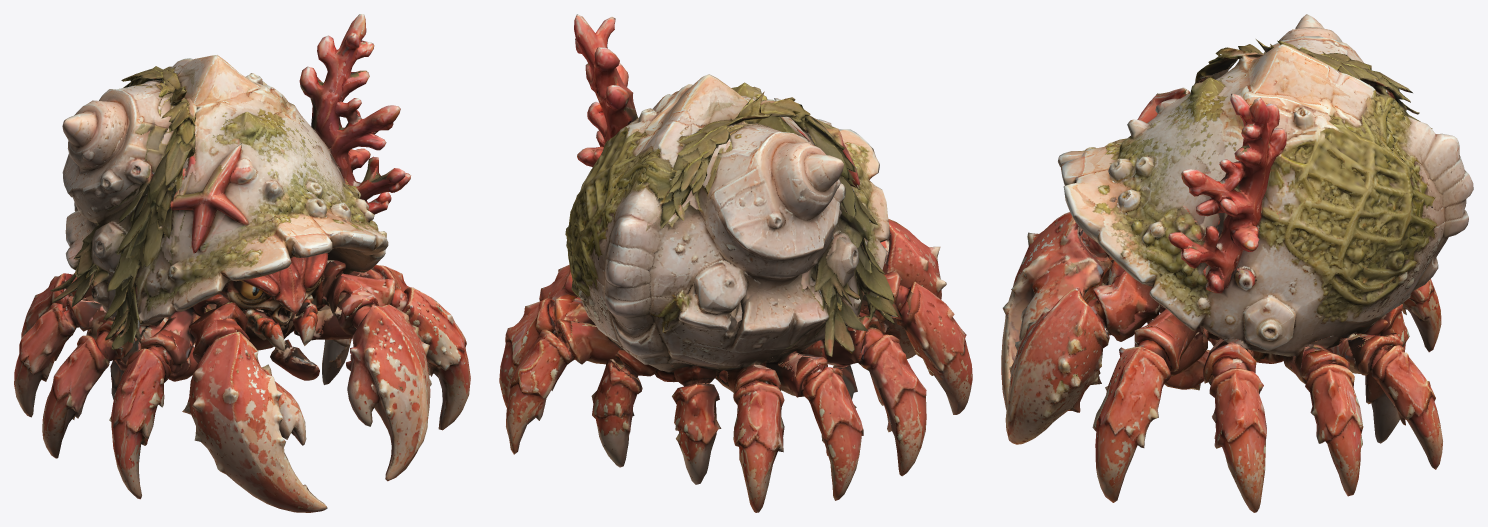
3 views of the same model, side by side, from view 1: azimuth 30°, elevation 25°; view 2: azimuth 150°, elevation 25°; view 3: azimuth 270°, elevation 25° (orthographic). The views are drawn at different scales.
Visible parts, largest first — view 1: surface_7; view 2: surface_7; view 3: surface_7.
Part boxes in pixels (box(x1,y1,x2,y2)): surface_7: box(14, 14, 470, 512); surface_7: box(499, 14, 972, 512); surface_7: box(1001, 14, 1473, 512).
Bounding box in the file's own units: 0.9879 × 0.9455 × 1.
Materials: 1 (1 with a texture image).
